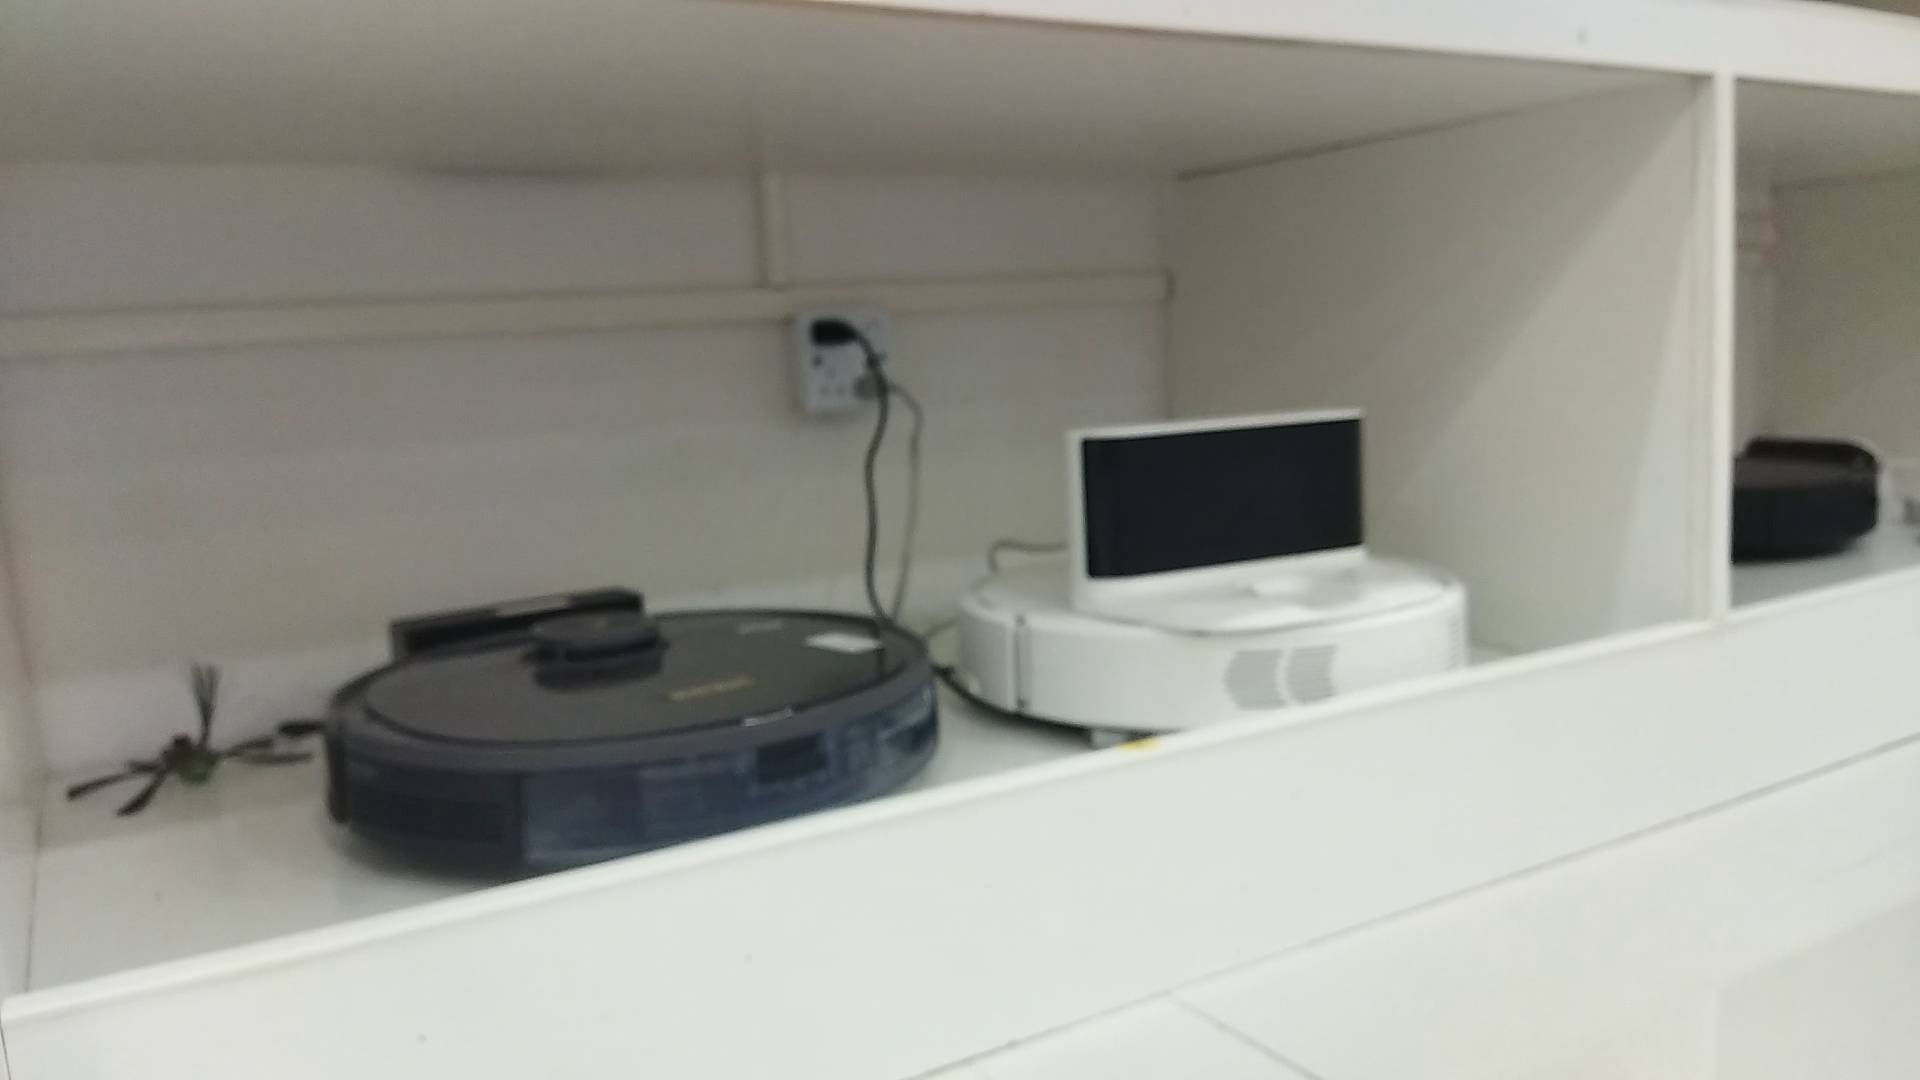recharge seat: (1065, 407, 1447, 637)
